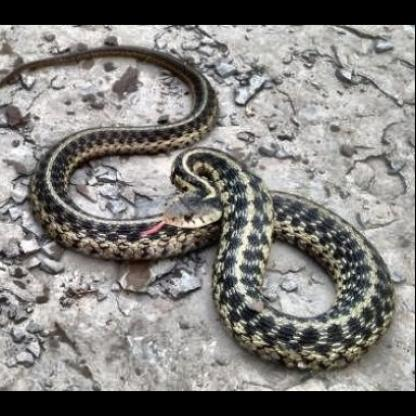Snake: (19, 45, 396, 374)
